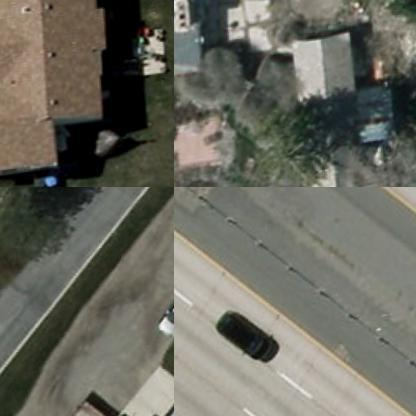car: (212, 304, 283, 373), (151, 273, 173, 342)
pickup: (65, 394, 136, 415)
